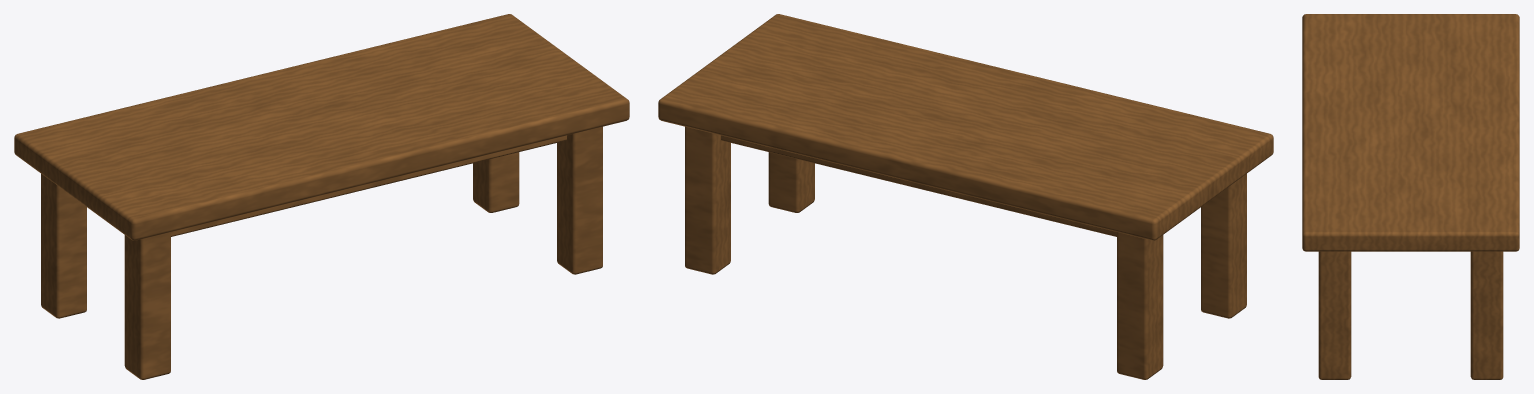
Rendered from Furn_BigTable.fbx.
3 views of the same model, side by side, from view 1: azimuth 30°, elevation 25°; view 2: azimuth 150°, elevation 25°; view 3: azimuth 270°, elevation 25° (orthographic). The views are drawn at different scales.
Parts seen in each view (by area): view 1: Furn_BigTable_Mesh; view 2: Furn_BigTable_Mesh; view 3: Furn_BigTable_Mesh.
Boxes of the visible parts, <box> form: Furn_BigTable_Mesh: <box>14,14,629,379</box>; Furn_BigTable_Mesh: <box>658,14,1273,379</box>; Furn_BigTable_Mesh: <box>1302,14,1519,379</box>.
Size of the model in its own units: 2.4 by 0.79 by 1.
Materials: 1 (1 with a texture image).
